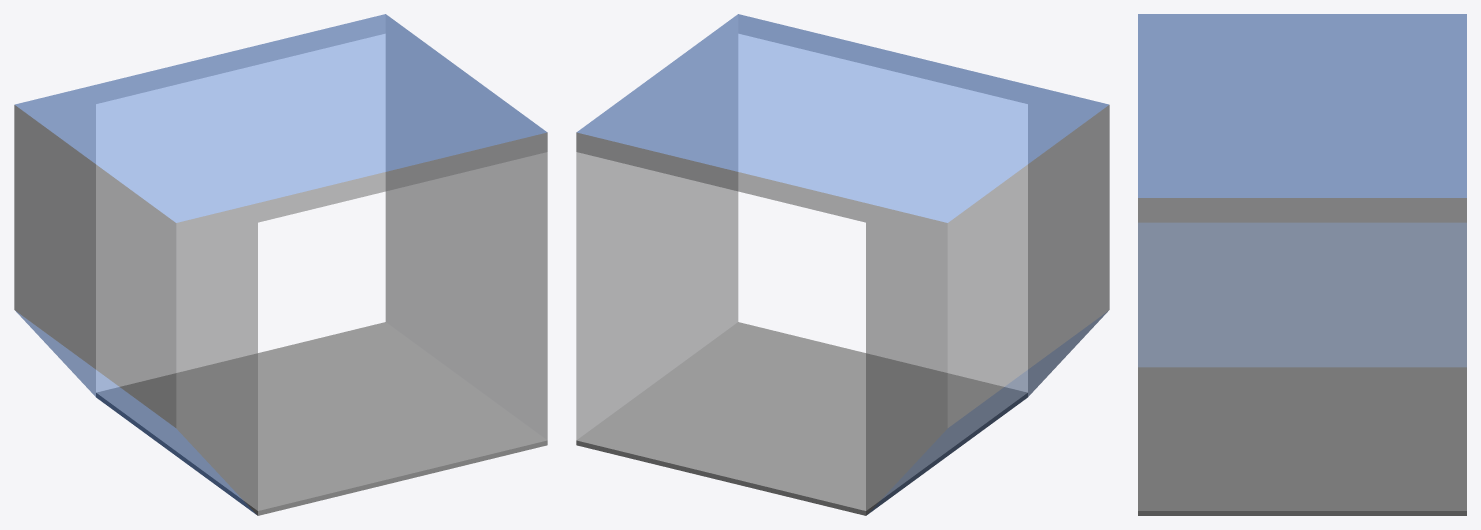
Rendered from ake.gltf.
3 views of the same model, side by side, from view 1: azimuth 30°, elevation 25°; view 2: azimuth 150°, elevation 25°; view 3: azimuth 270°, elevation 25° (orthographic).
Visible parts, largest first — view 1: root; view 2: root; view 3: root.
Boxes of the visible parts, x1,y1,x2,y2 form: root: [14, 14, 547, 515]; root: [576, 14, 1109, 515]; root: [1138, 14, 1466, 515].
Bounding box in the file's own units: 2.02 × 1.63 × 1.52.
